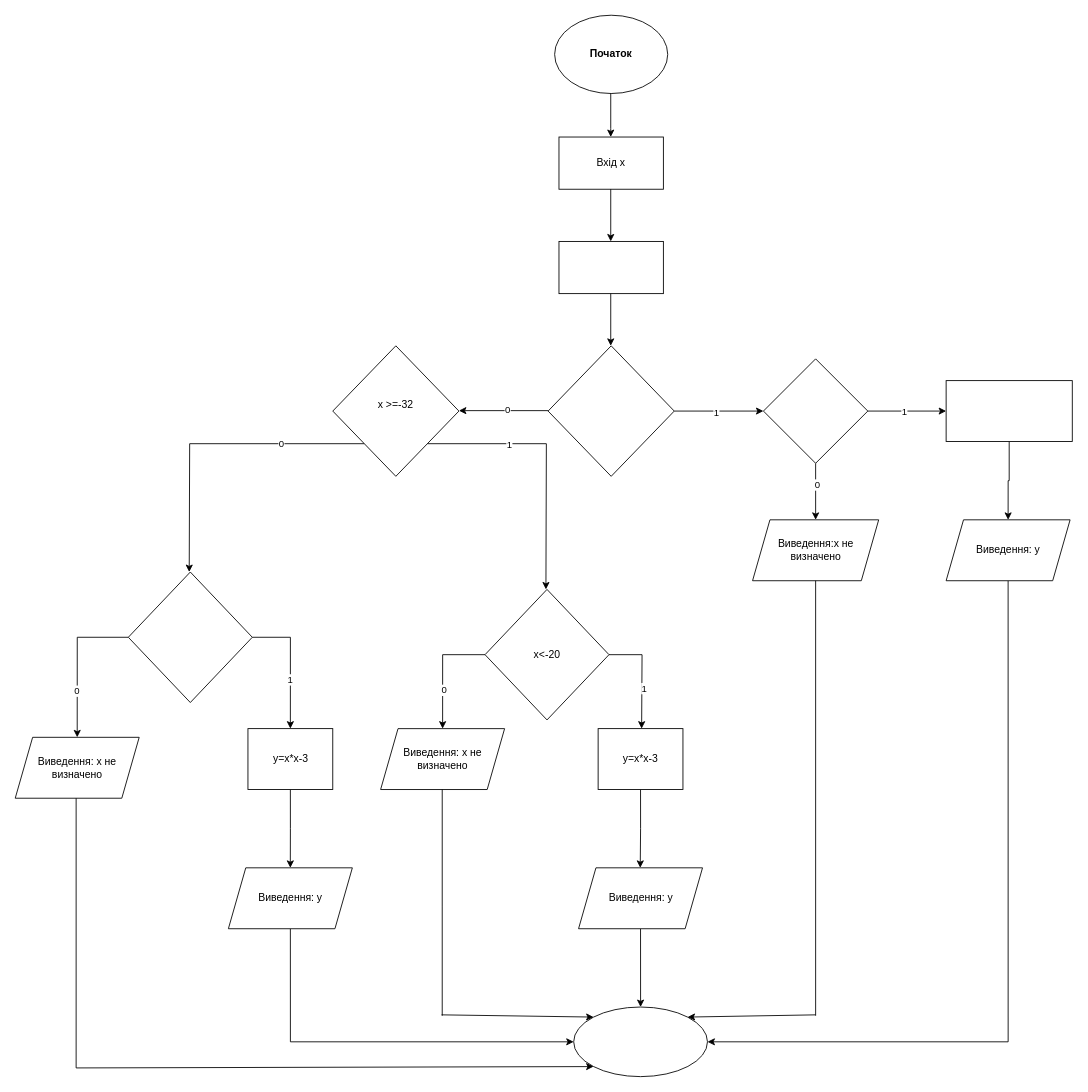
Image size: 1088x1092. Some labels were removed from this diagram. The shapes that lost their labels are listed below. From the top down, each one's centre as x and y in pixels, then its label:
the point at 610,267: is_defined =0
the point at 610,410: x>0
the point at 815,410: x<=5
the point at 1008,411: y = x * x * x - 5.0 * x * x
the point at 189,637: x>10
the point at 640,1041: Кінець
